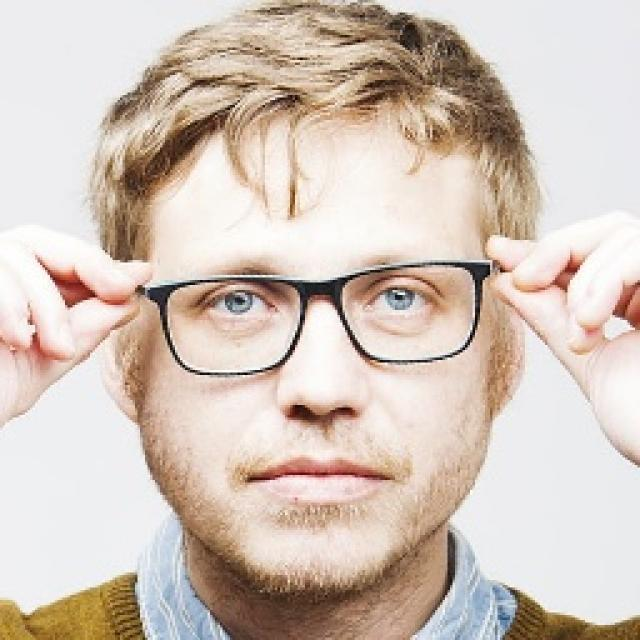glasses: (122, 262, 507, 374)
